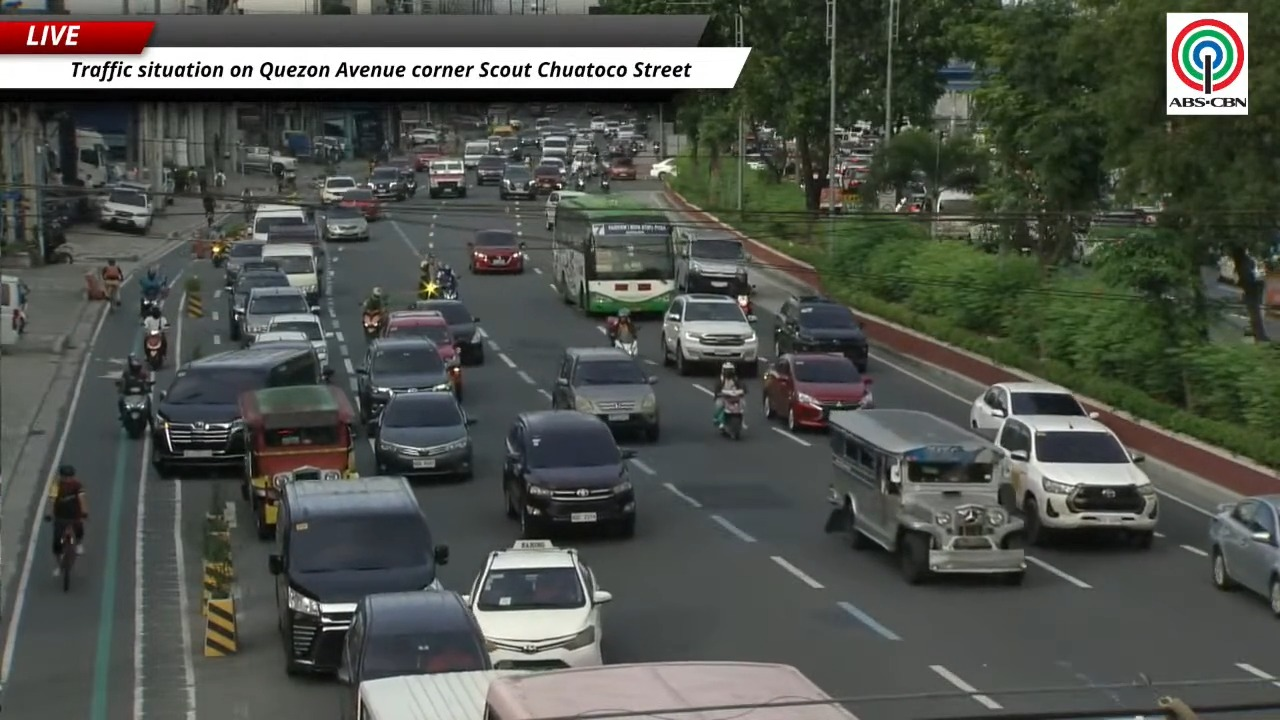bus: (483, 661, 857, 719), (552, 194, 675, 315), (342, 670, 526, 719)
car: (268, 476, 448, 674), (824, 409, 1026, 585), (994, 416, 1158, 548), (337, 590, 491, 718), (463, 539, 611, 669), (502, 410, 635, 538), (551, 347, 659, 441), (369, 392, 473, 478), (762, 353, 872, 432), (1209, 494, 1279, 617), (356, 337, 454, 422), (660, 293, 758, 376), (773, 295, 868, 372), (970, 382, 1098, 430), (674, 227, 751, 298), (412, 299, 484, 365), (227, 269, 290, 340), (380, 311, 459, 366), (239, 286, 311, 345), (267, 313, 329, 366), (468, 229, 525, 273), (99, 188, 153, 233), (224, 240, 264, 286), (323, 206, 369, 241), (545, 190, 586, 229), (428, 158, 466, 198), (367, 166, 408, 201), (339, 187, 380, 221), (500, 165, 536, 199), (321, 176, 357, 203), (476, 154, 507, 185), (414, 142, 443, 171), (534, 164, 564, 192), (252, 330, 308, 344), (397, 159, 417, 197), (570, 149, 598, 176), (539, 155, 568, 178), (608, 157, 635, 179), (650, 158, 677, 179), (499, 136, 522, 159), (518, 131, 541, 148), (572, 137, 593, 155), (603, 120, 620, 136), (590, 116, 605, 132)
motorcycle: (720, 388, 744, 440), (122, 394, 149, 439), (143, 331, 165, 371), (362, 311, 380, 340), (210, 240, 228, 267), (140, 296, 161, 317), (614, 339, 637, 357), (605, 316, 619, 344), (736, 294, 753, 315), (440, 286, 458, 299), (600, 174, 609, 193), (575, 175, 585, 191), (652, 141, 660, 154)
truck: (45, 114, 109, 188), (76, 128, 108, 187), (241, 146, 297, 175)
